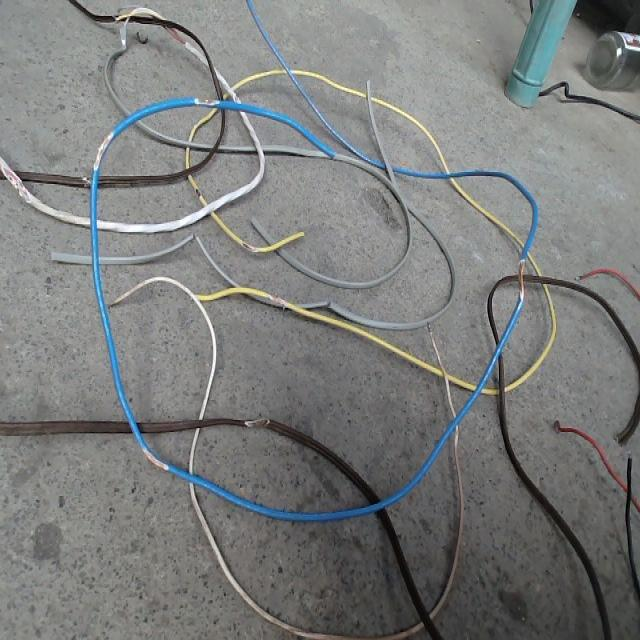-: (0, 164, 30, 201), (92, 131, 113, 169), (139, 445, 168, 471), (243, 414, 270, 430), (516, 255, 524, 300), (193, 96, 219, 105), (268, 294, 286, 306), (240, 240, 256, 252), (194, 186, 202, 198)
